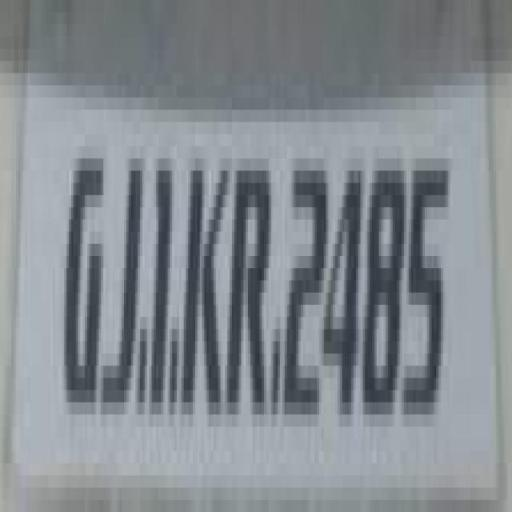number plate: (9, 0, 512, 500)
